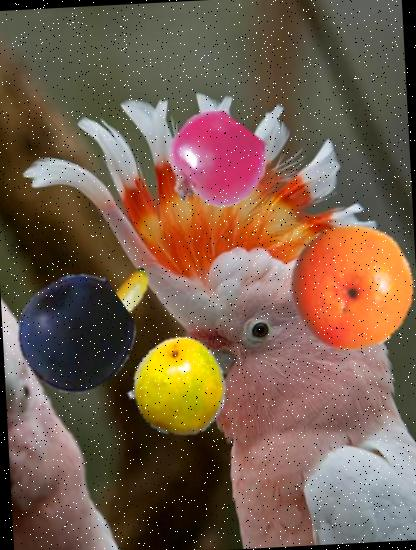Banana: (40, 242, 148, 350)
Grape: (14, 273, 136, 395)
Grapefruit: (284, 220, 416, 355)
Maracuja: (126, 336, 232, 442)
Redcurrant: (162, 110, 266, 214)
